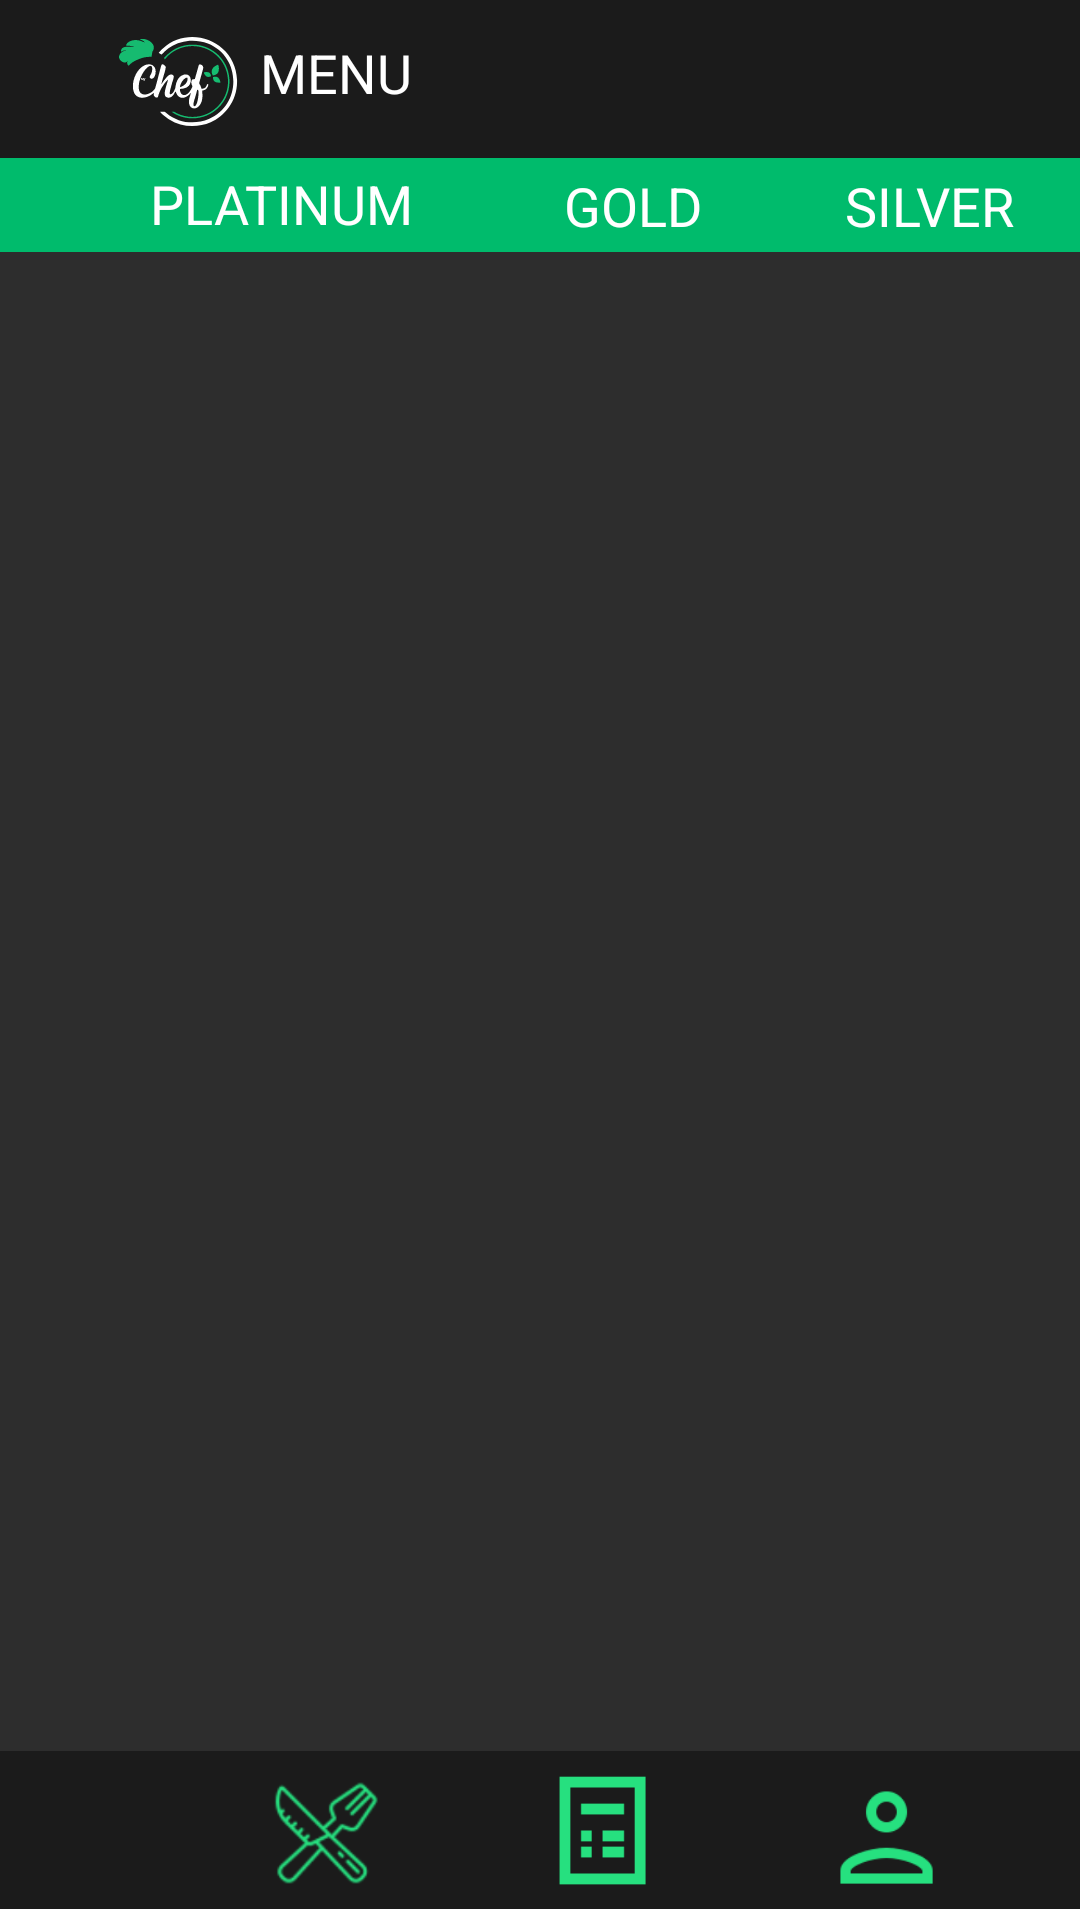

Where icons sit on this 1080px×1920px app screen, as rect(x1, y1, x2, y2):
menuicon: rect(275, 1782, 378, 1884)
ordericon: rect(559, 1776, 646, 1885)
profileicon: rect(840, 1791, 933, 1884)
